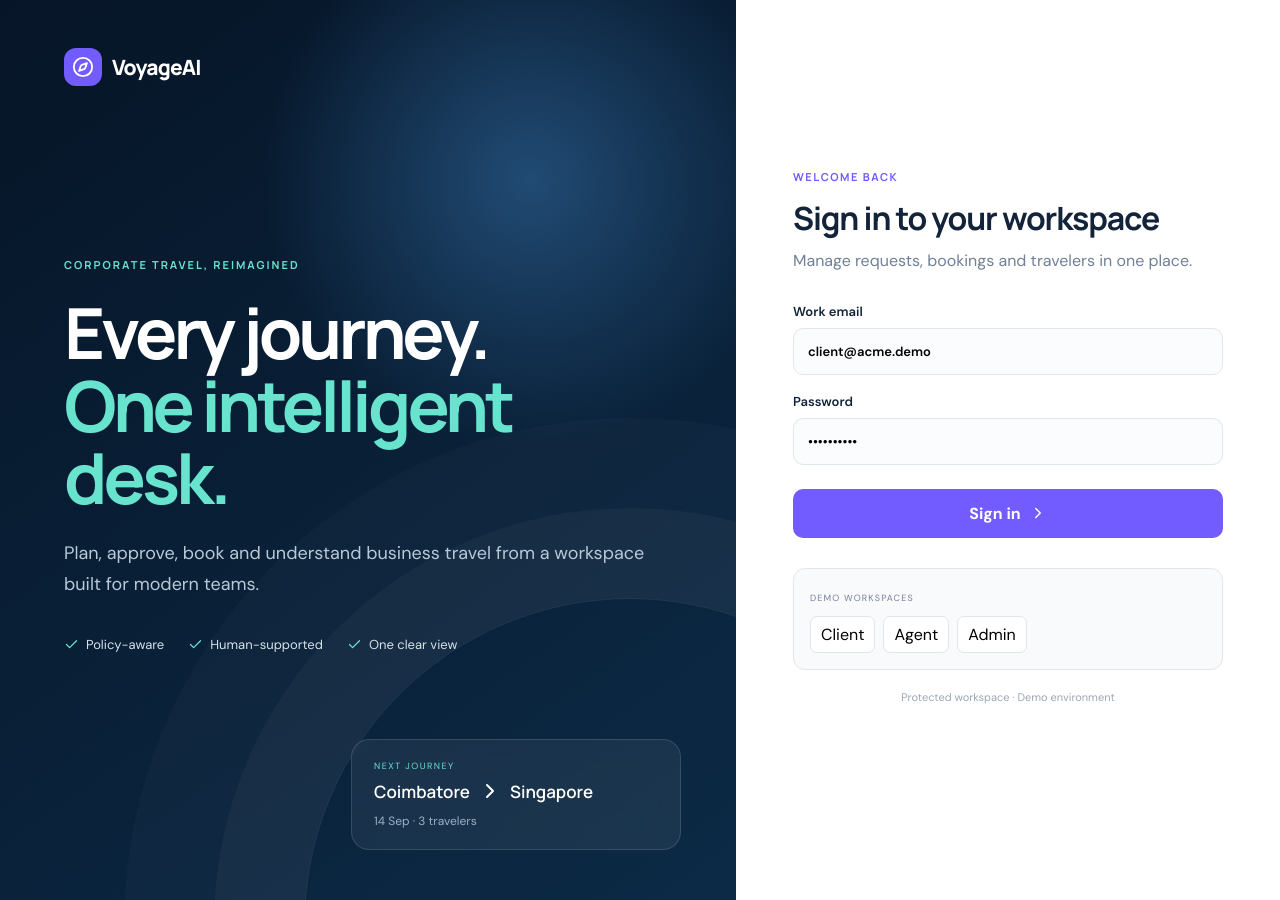
successful login renders client dashboard
The width and height of the screenshot is (1280, 900).
Click the button "Sign in" at (1008,513), box [793,488,1223,538]
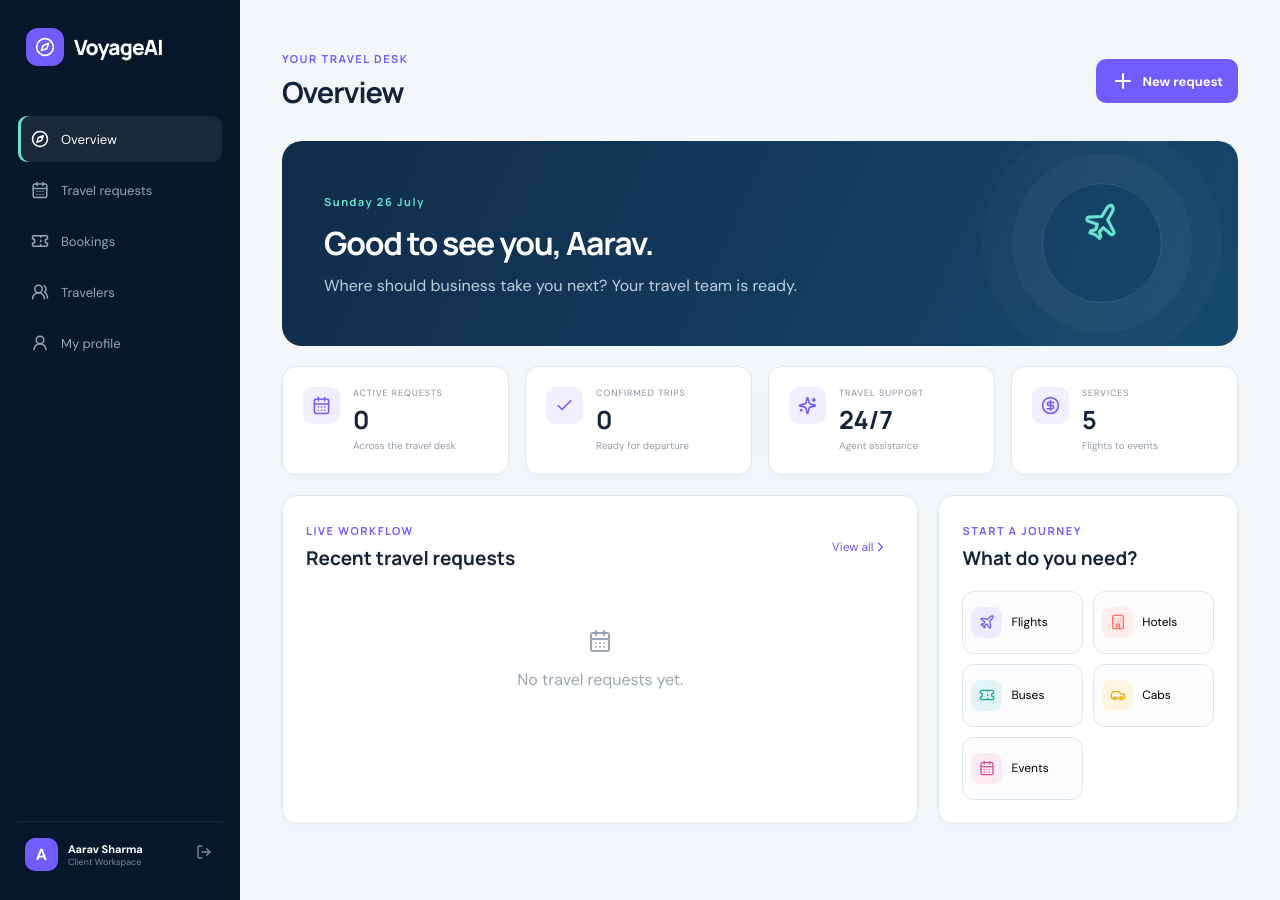
Expected: the heading "Good to see you, Aarav." is shown, [324,221,653,265]
